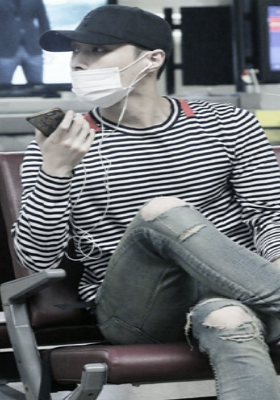mask_weared_incorrect: (69, 43, 149, 108)
